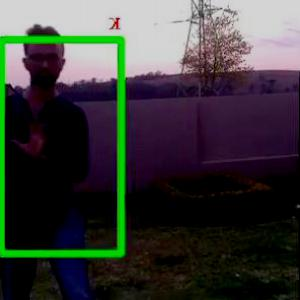follow_hand: (9, 111, 59, 159)
